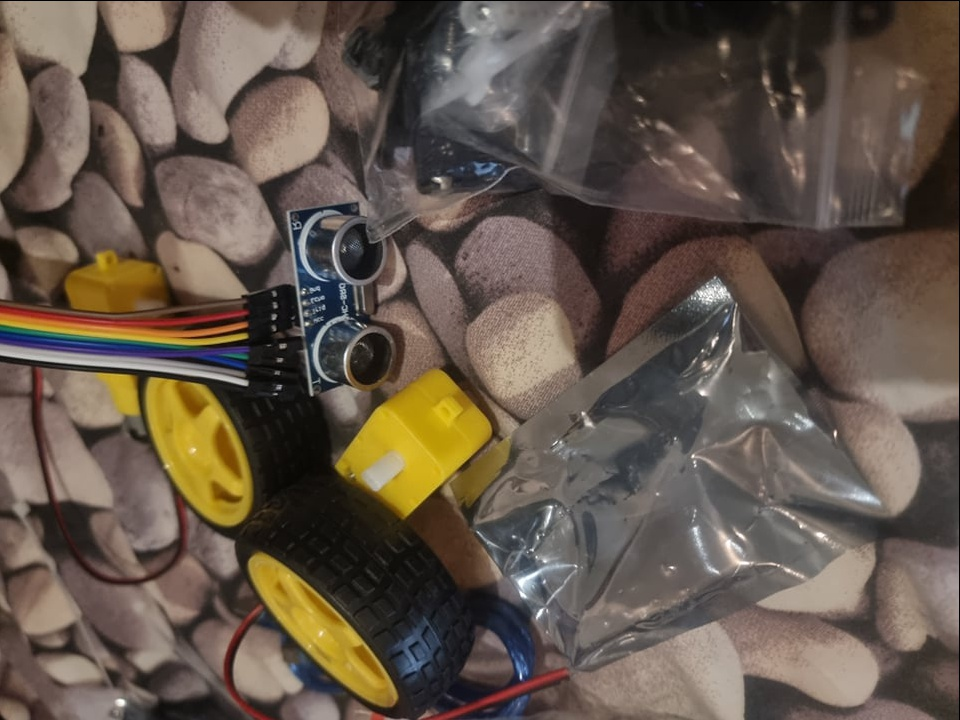SENSOR: (305, 204, 397, 395)
